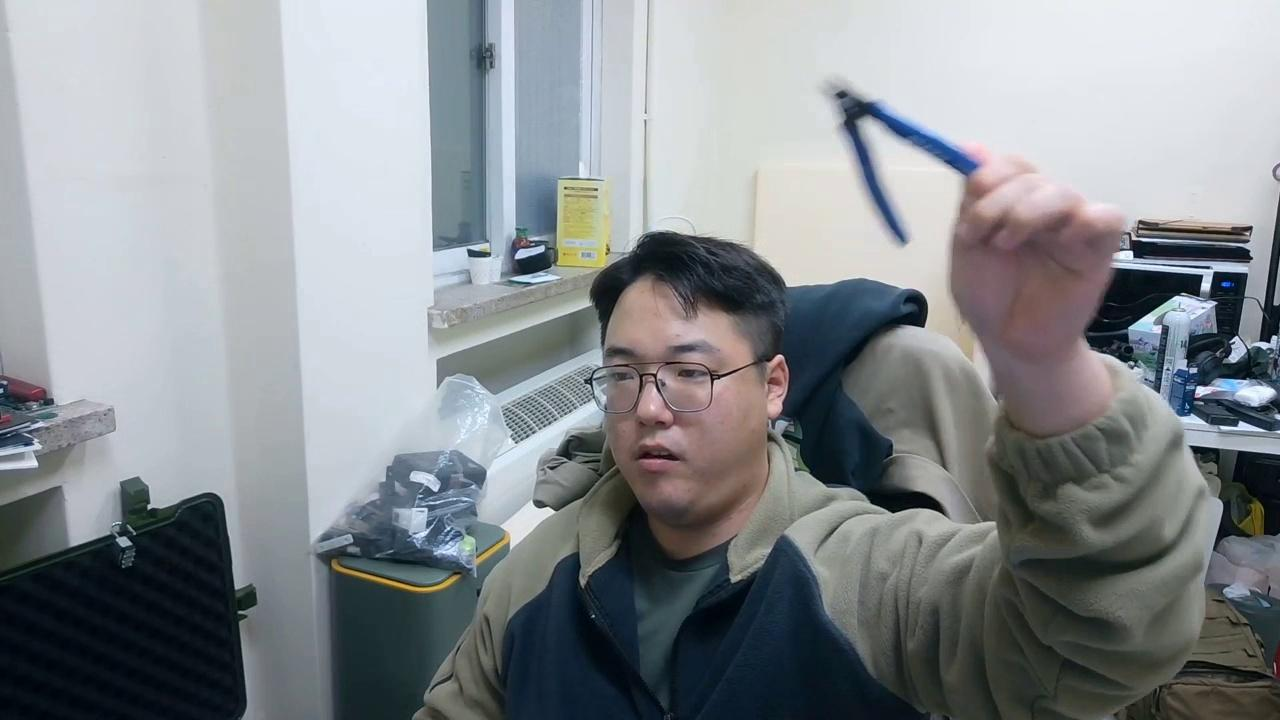blue_pliers: (821, 75, 985, 247)
